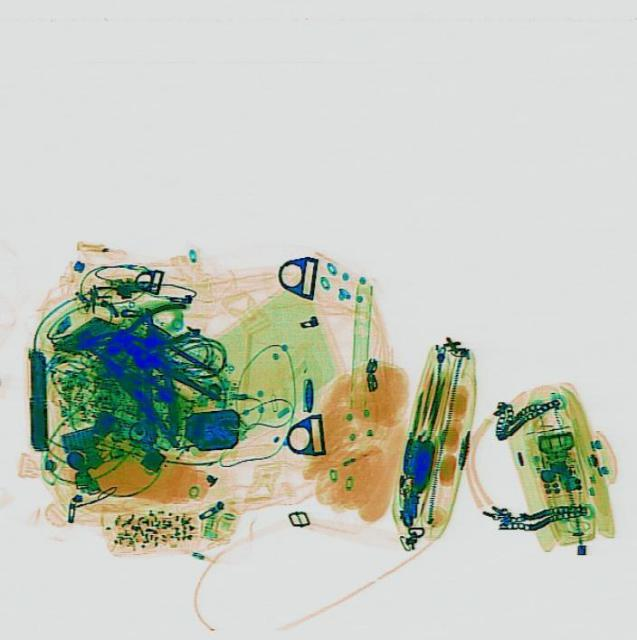Pliers: (67, 308, 225, 450), (75, 298, 190, 364)
